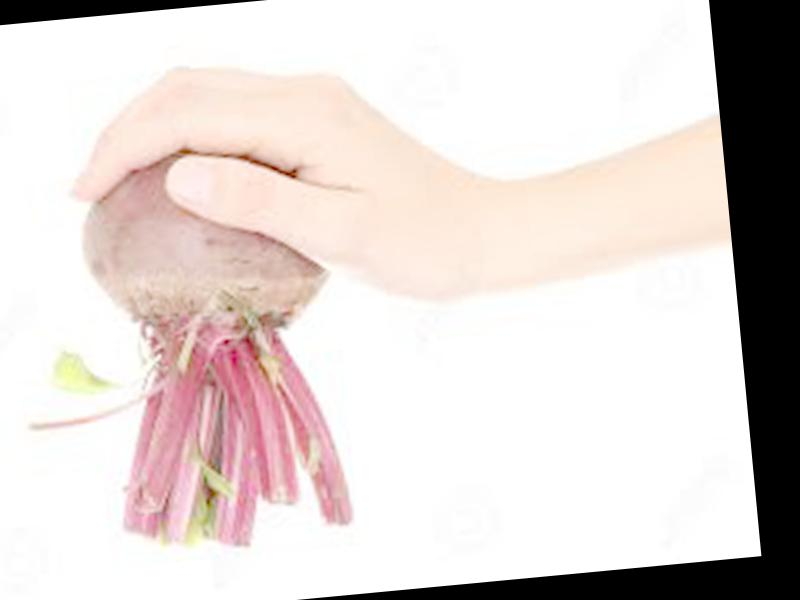Beet: (1, 136, 352, 565)
